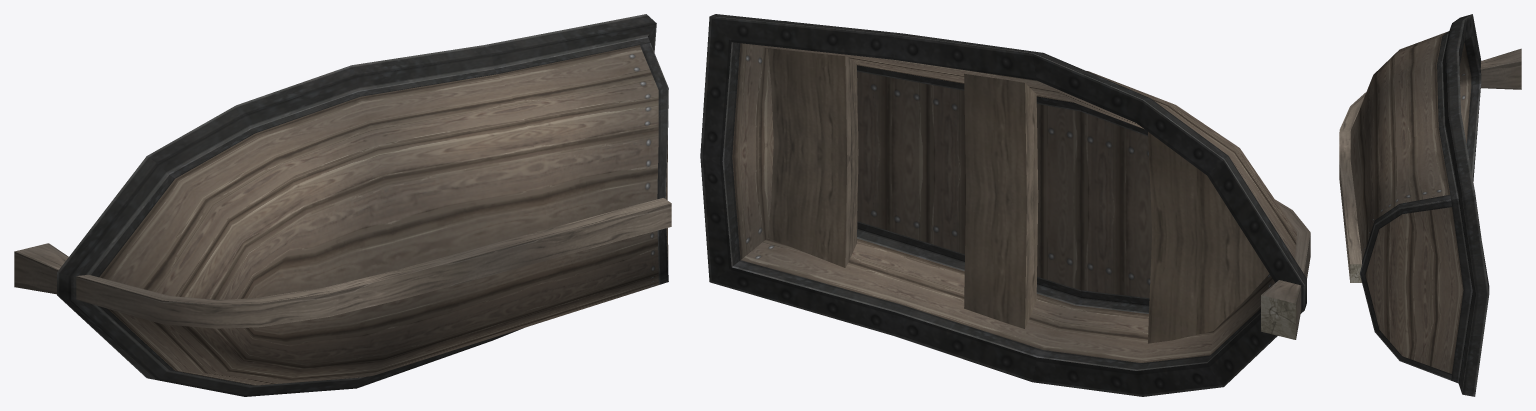
Rendered from Boat_Small_A.fbx.
The picture shows the model from 3 angles, left to right: view 1: azimuth 30°, elevation 25°; view 2: azimuth 150°, elevation 25°; view 3: azimuth 270°, elevation 25°; orthographic projection. The views are drawn at different scales.
Visible parts, largest first — view 1: Boat_Small_A; view 2: Boat_Small_A; view 3: Boat_Small_A.
Boxes of the visible parts, <box> form: Boat_Small_A: <box>14,14,671,396</box>; Boat_Small_A: <box>700,14,1310,396</box>; Boat_Small_A: <box>1339,14,1521,396</box>.
Bounding box in the file's own units: 5.68 × 2.88 × 1.88.
